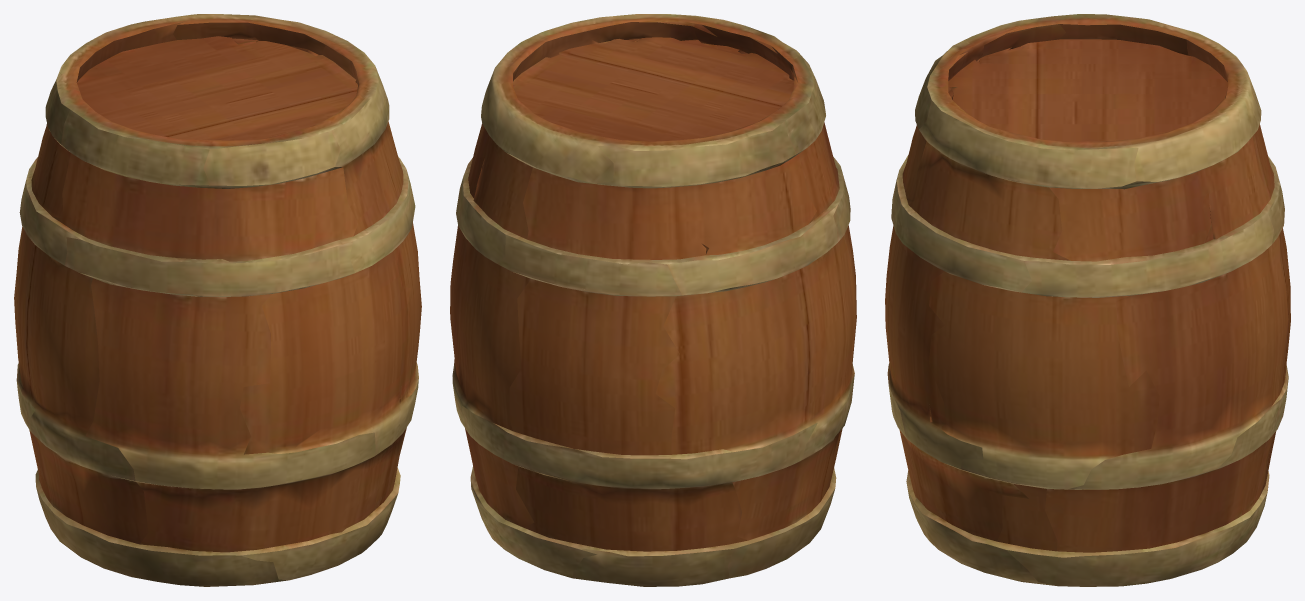
File: sz-barrel.glb
3 views of the same model, side by side, from view 1: azimuth 30°, elevation 25°; view 2: azimuth 150°, elevation 25°; view 3: azimuth 270°, elevation 25° (orthographic).
Parts seen in each view (by area): view 1: geometry_0; view 2: geometry_0; view 3: geometry_0.
Part boxes in pixels (left/top/right/bottom): geometry_0: left=14, top=14, right=421, bottom=586; geometry_0: left=450, top=14, right=856, bottom=586; geometry_0: left=885, top=14, right=1290, bottom=586.
Size of the model in its own units: 0.8437 by 1 by 0.8444.
Materials: 1 (1 with a texture image).
